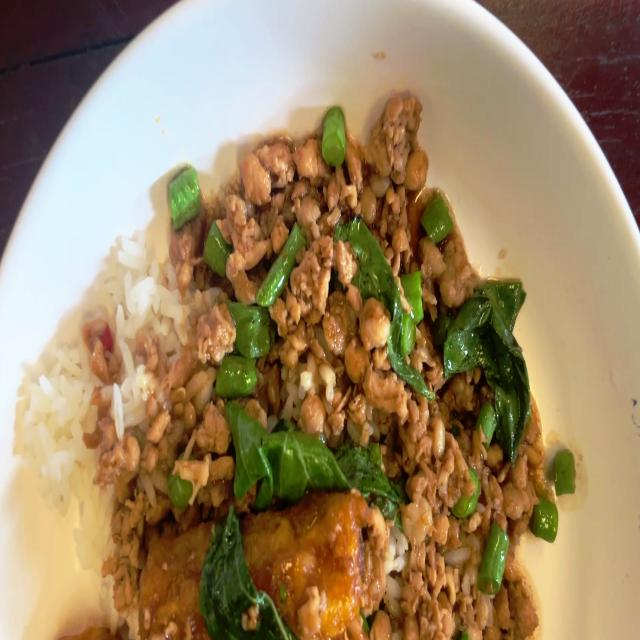fried_tofo: (142, 489, 382, 640)
minced_pork: (178, 83, 577, 499), (385, 489, 554, 640)
rice: (19, 307, 103, 534), (111, 227, 175, 428)
stir_fried_basil: (3, 91, 583, 640)
